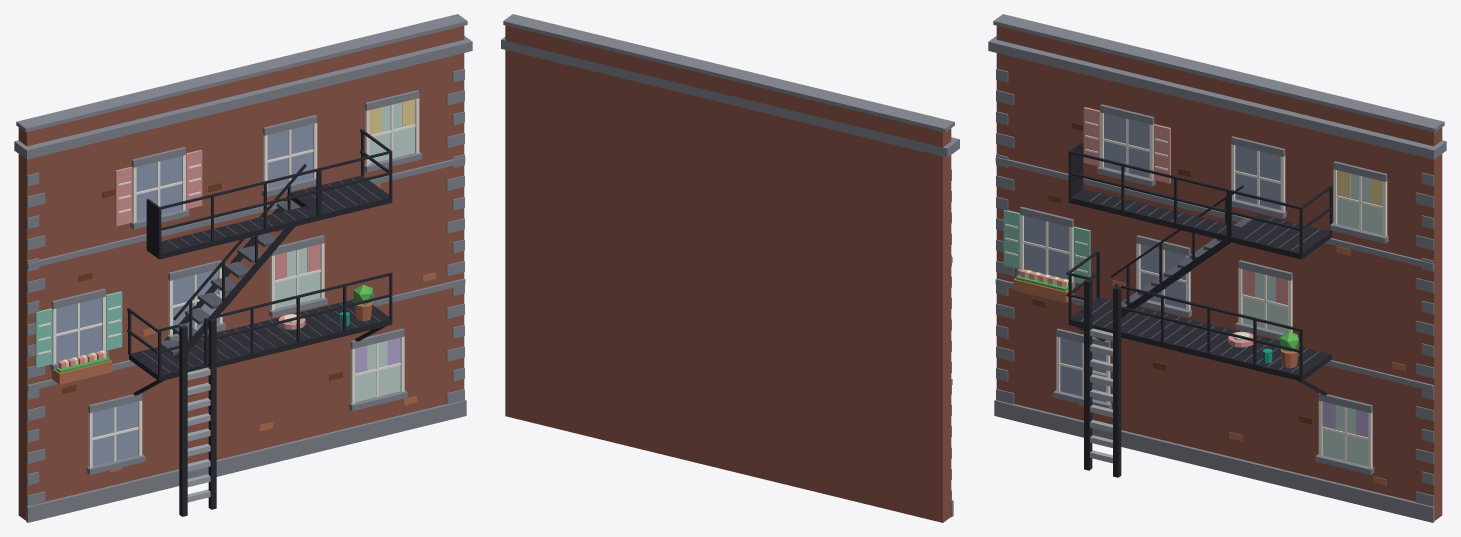
File: CatCafe_Alley_FireEscape.glb
3 renders of one model, left to right at view 1: azimuth 30°, elevation 25°; view 2: azimuth 150°, elevation 25°; view 3: azimuth 330°, elevation 25°, orthographic.
Visible parts, largest first — view 1: CatCafe_Alley_FireEscape, CatCafe_Alley_FireEscape_Pane, CatCafe_Alley_FireEscape_Flowers; view 2: CatCafe_Alley_FireEscape; view 3: CatCafe_Alley_FireEscape, CatCafe_Alley_FireEscape_Pane, CatCafe_Alley_FireEscape_Flowers.
Part boxes in pixels (bbox=[...]): CatCafe_Alley_FireEscape: bbox=[14, 14, 472, 522]; CatCafe_Alley_FireEscape_Pane: bbox=[275, 102, 414, 402]; CatCafe_Alley_FireEscape_Flowers: bbox=[56, 350, 109, 372]; CatCafe_Alley_FireEscape: bbox=[501, 14, 959, 522]; CatCafe_Alley_FireEscape: bbox=[988, 14, 1446, 522]; CatCafe_Alley_FireEscape_Pane: bbox=[1242, 173, 1382, 466]; CatCafe_Alley_FireEscape_Flowers: bbox=[1016, 269, 1068, 291].
Bounding box in the file's own units: 30.6 × 25.85 × 5.05.
1 material, 1 textured.
